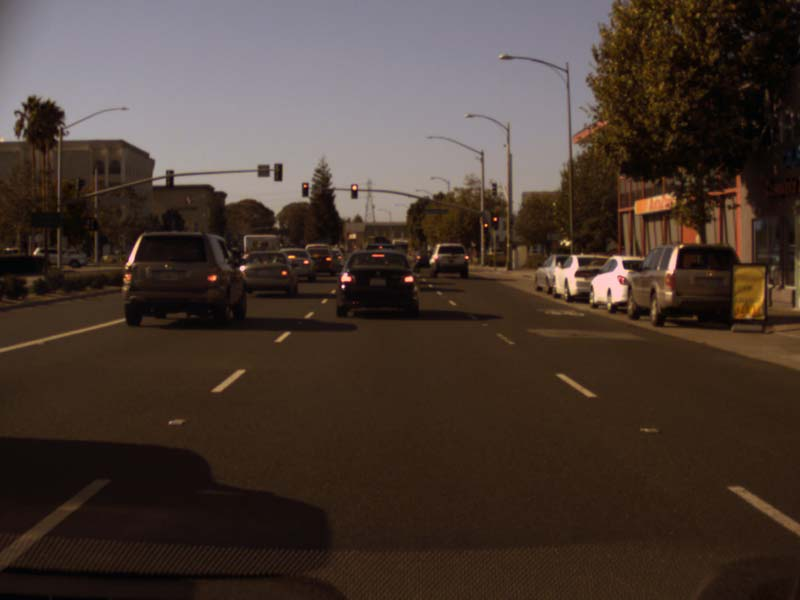Red: (351, 184, 357, 199), (492, 215, 498, 229), (302, 182, 308, 196), (483, 222, 488, 233)
